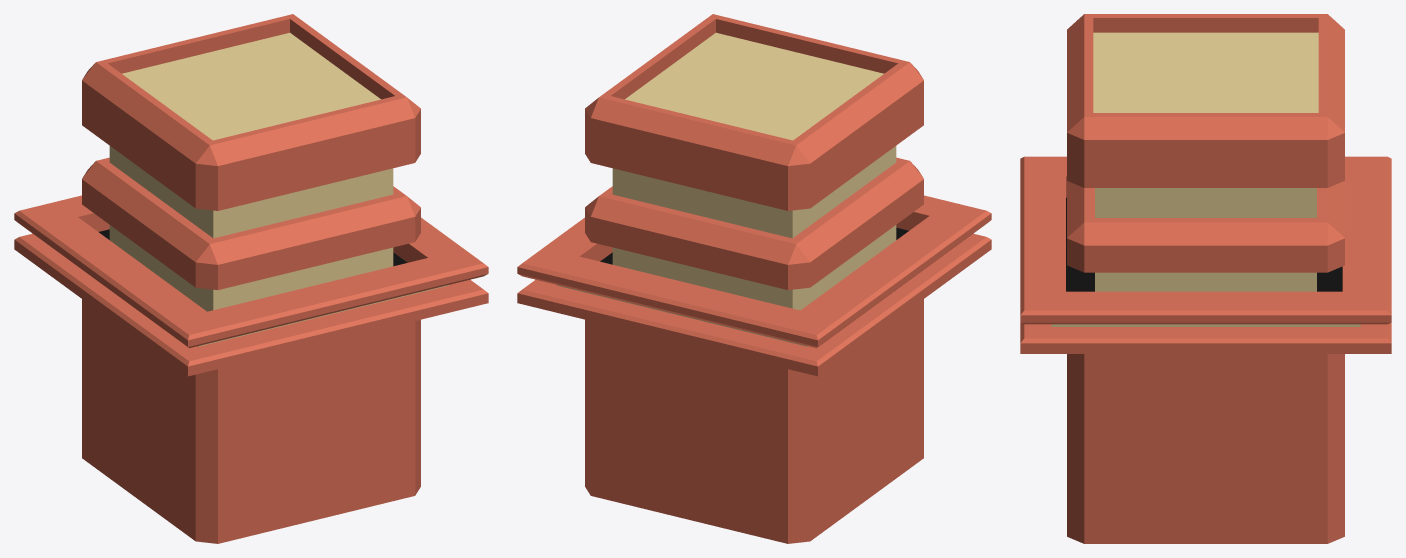
Rendered from Elevator.fbx.
The picture shows the model from 3 angles, left to right: view 1: azimuth 30°, elevation 25°; view 2: azimuth 150°, elevation 25°; view 3: azimuth 270°, elevation 25°; orthographic projection. The views are drawn at different scales.
Visible parts, largest first — view 1: Cube.001, Cube; view 2: Cube.001, Cube; view 3: Cube.001, Cube.
Part boxes in pixels (x1,y1,x2,y2): Cube.001: [82, 14, 420, 543]; Cube: [14, 195, 488, 376]; Cube.001: [585, 14, 923, 543]; Cube: [517, 195, 991, 376]; Cube.001: [1067, 14, 1344, 543]; Cube: [1020, 156, 1391, 353].
Bounding box in the file's own units: 1600 × 1997 × 1600.
